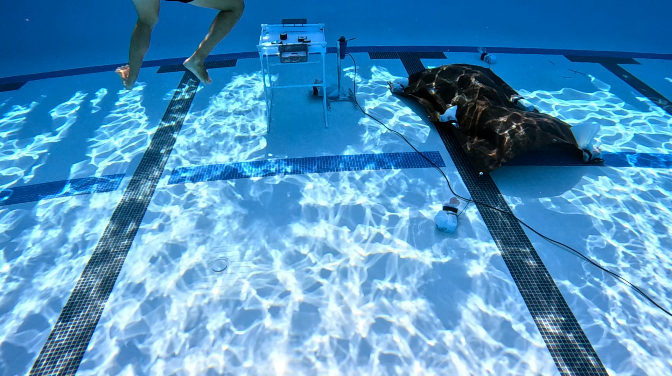sandbag: (389, 57, 604, 175)
